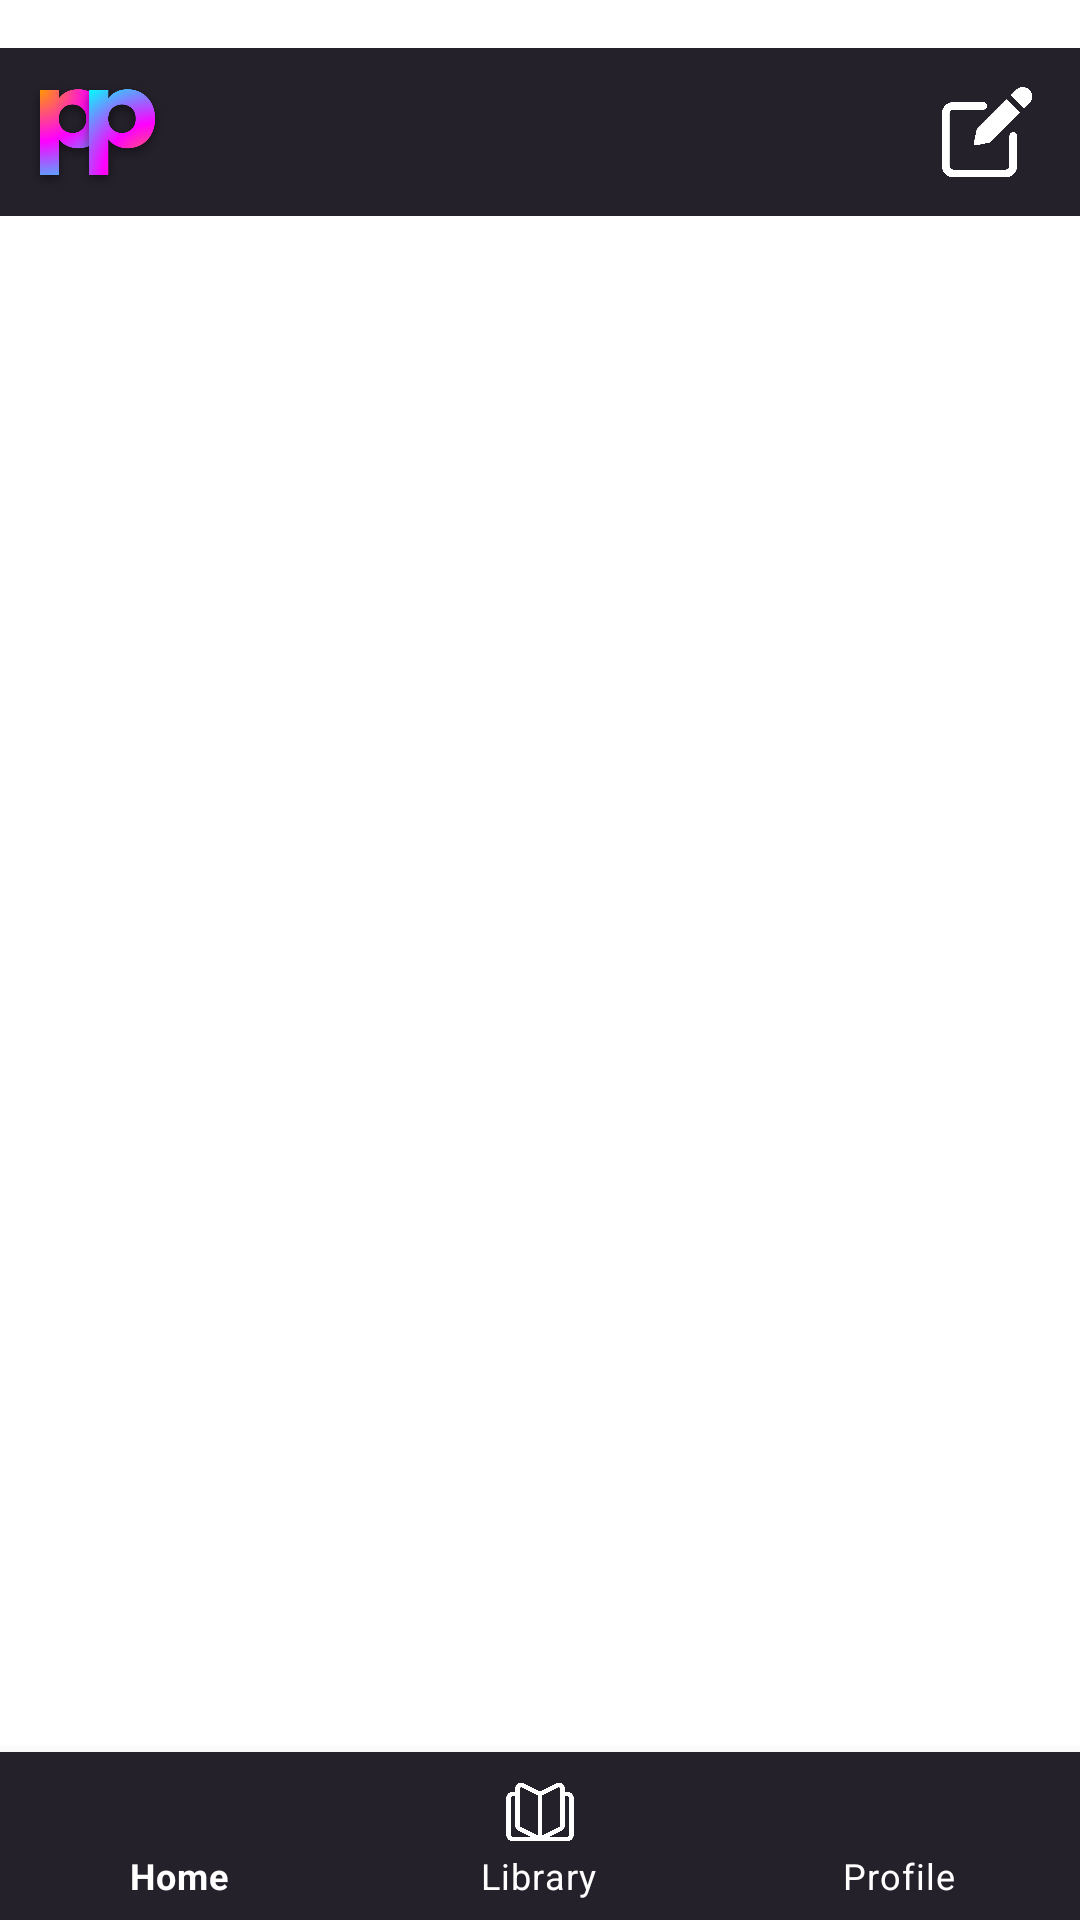

Where to tap for icons on this 1080px×1920px app screen, as (x=x, y=y):
edit: (x=987, y=132)
